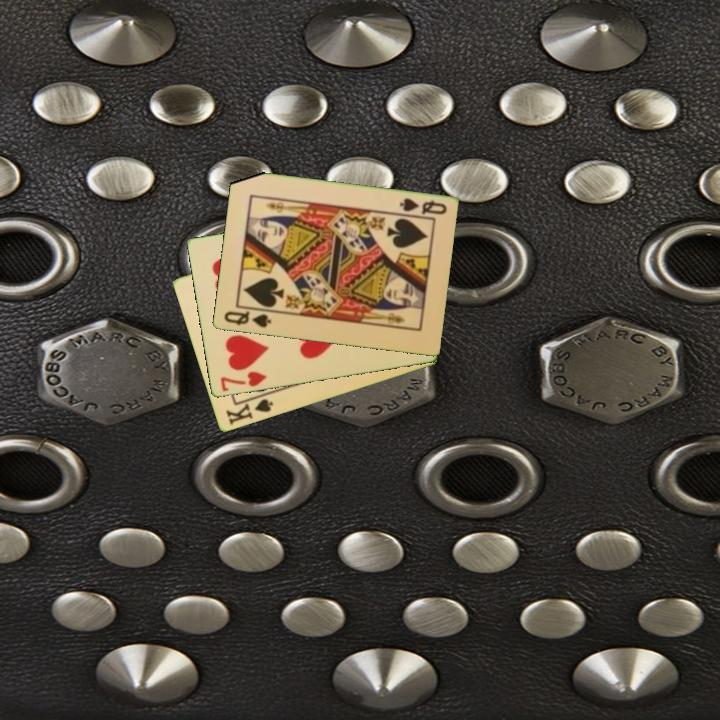7h: (216, 368, 270, 395)
Ks: (222, 390, 276, 428)
Qs: (220, 308, 274, 331), (395, 195, 449, 218)
